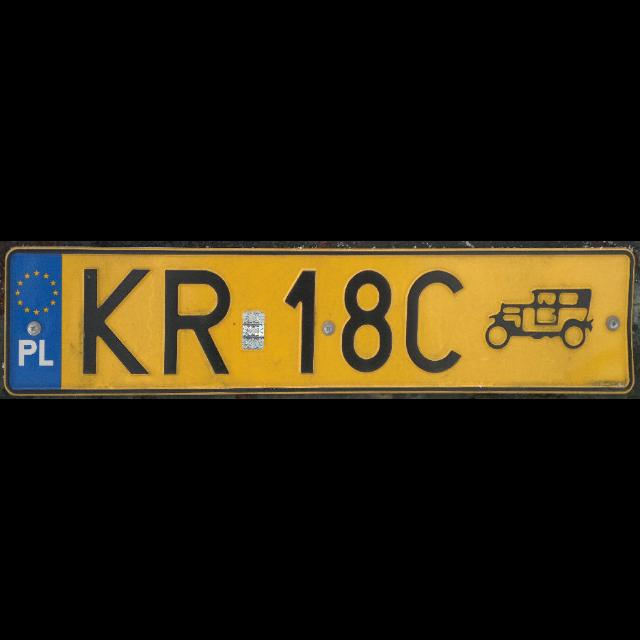pl_license_plate: (7, 250, 630, 392)
